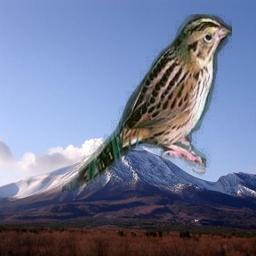Sparrow: (62, 14, 232, 192)
